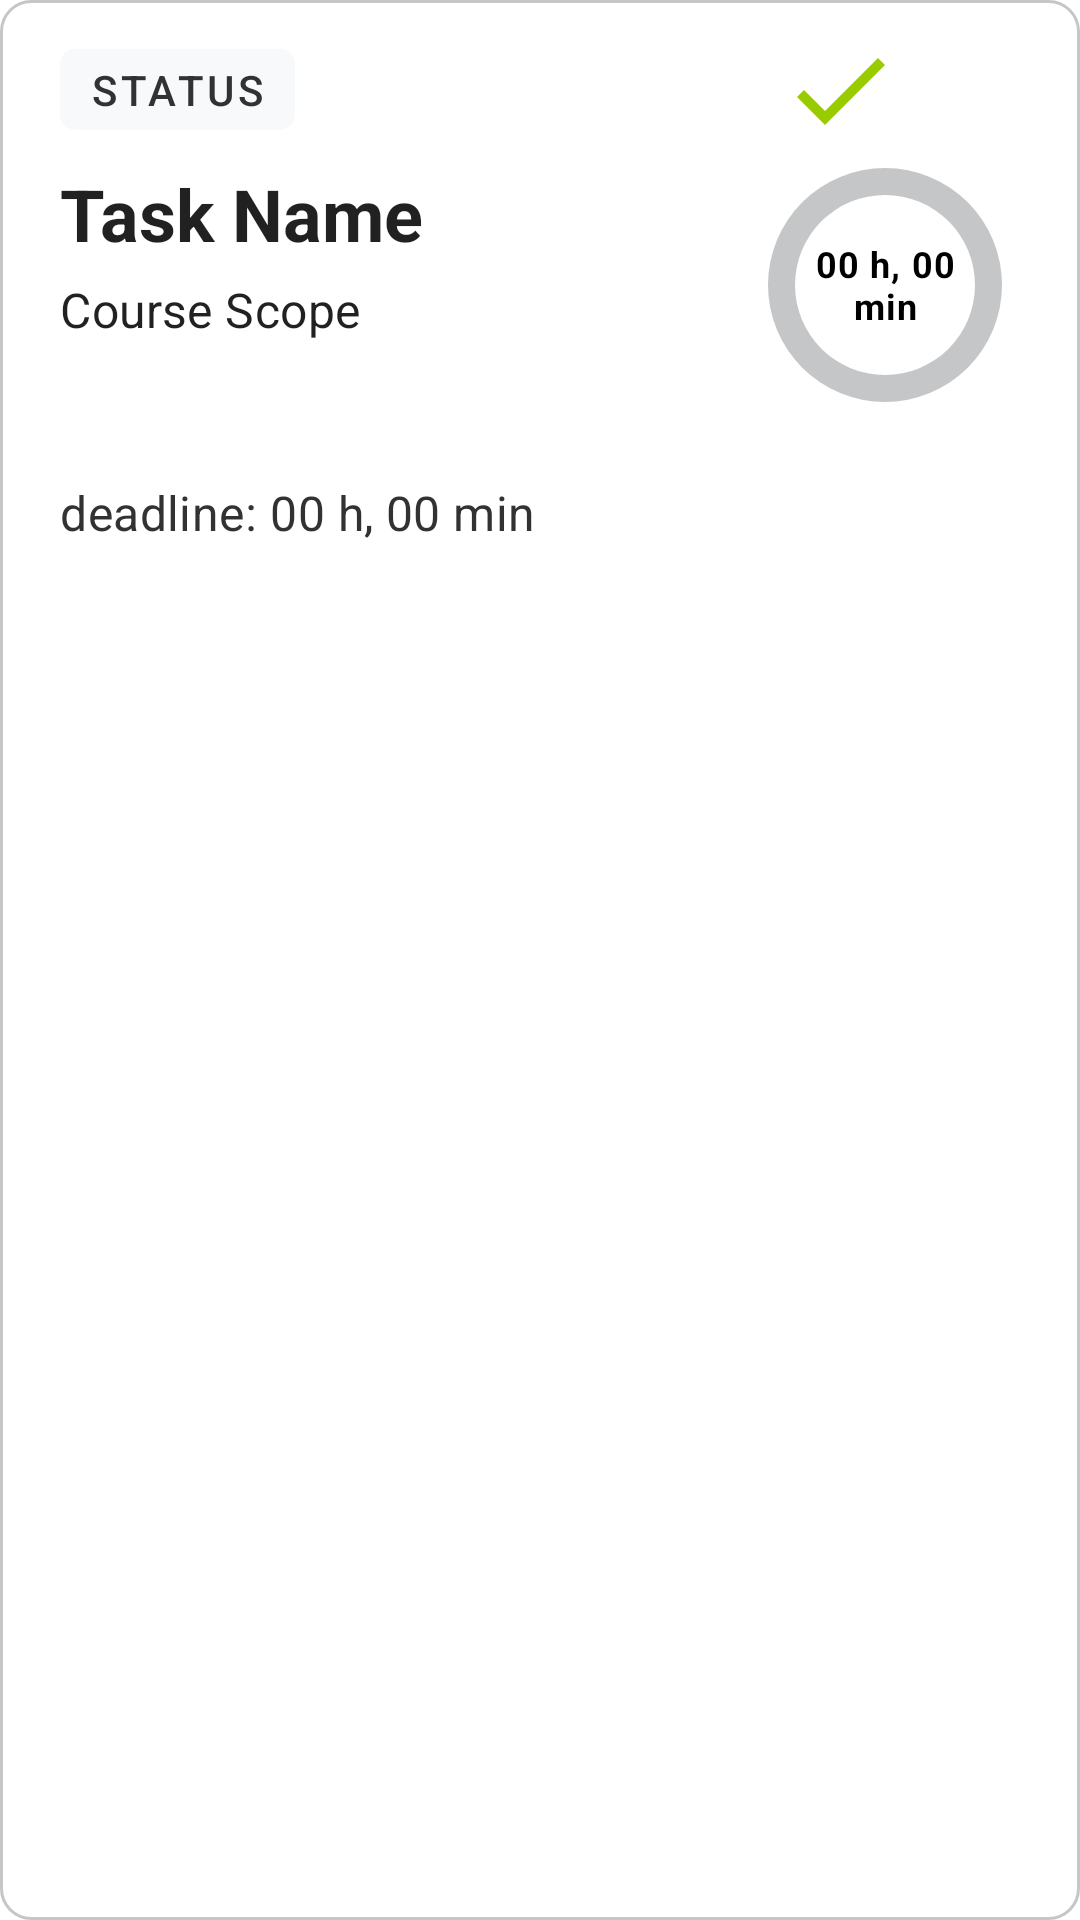

Icon bounding boxes for this 1080px x 1920px phone screenshot, format bbox=[x1, y1, x2, y2]:
Click to mark a task as completed: bbox=[797, 58, 885, 125]
